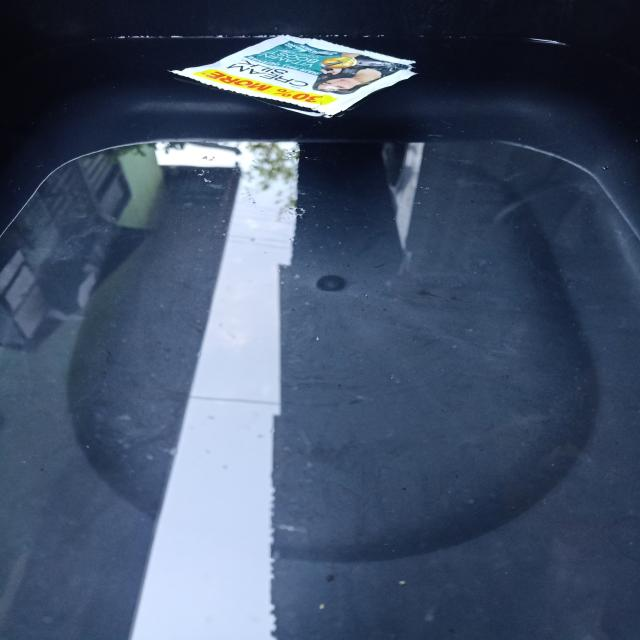Plastic Wrapper: (171, 35, 416, 117)
